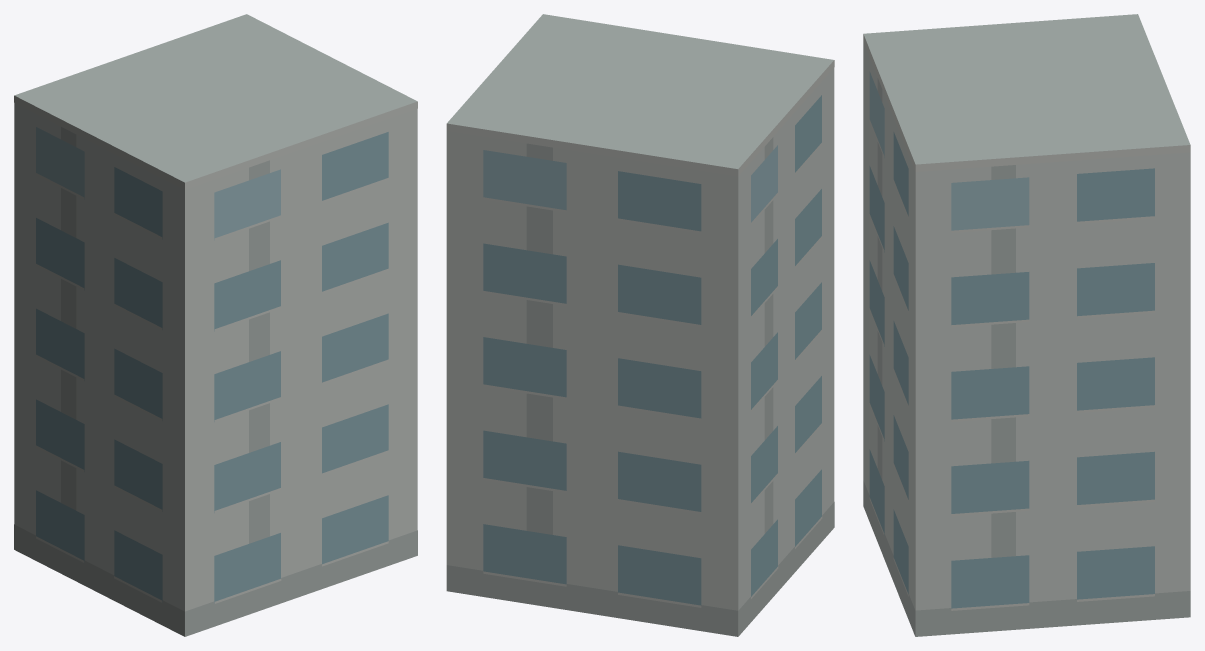
File: residential-72c1c0c1-f5ab-41e9-9c0b-96a649860c51.glb
3 views of the same model, side by side, from view 1: azimuth 30°, elevation 25°; view 2: azimuth 150°, elevation 25°; view 3: azimuth 270°, elevation 25° (orthographic). The views are drawn at different scales.
Parts seen in each view (by area): view 1: residential-72c1c0c1-f5ab-41e9-9c0b-96a649860c51.tmp; view 2: residential-72c1c0c1-f5ab-41e9-9c0b-96a649860c51.tmp; view 3: residential-72c1c0c1-f5ab-41e9-9c0b-96a649860c51.tmp.
Part boxes in pixels (x1,y1,x2,y2): residential-72c1c0c1-f5ab-41e9-9c0b-96a649860c51.tmp: (14,14,417,636); residential-72c1c0c1-f5ab-41e9-9c0b-96a649860c51.tmp: (446,14,834,636); residential-72c1c0c1-f5ab-41e9-9c0b-96a649860c51.tmp: (863,14,1190,636).
Size of the model in its own units: 10.43 by 15.25 by 9.59.
